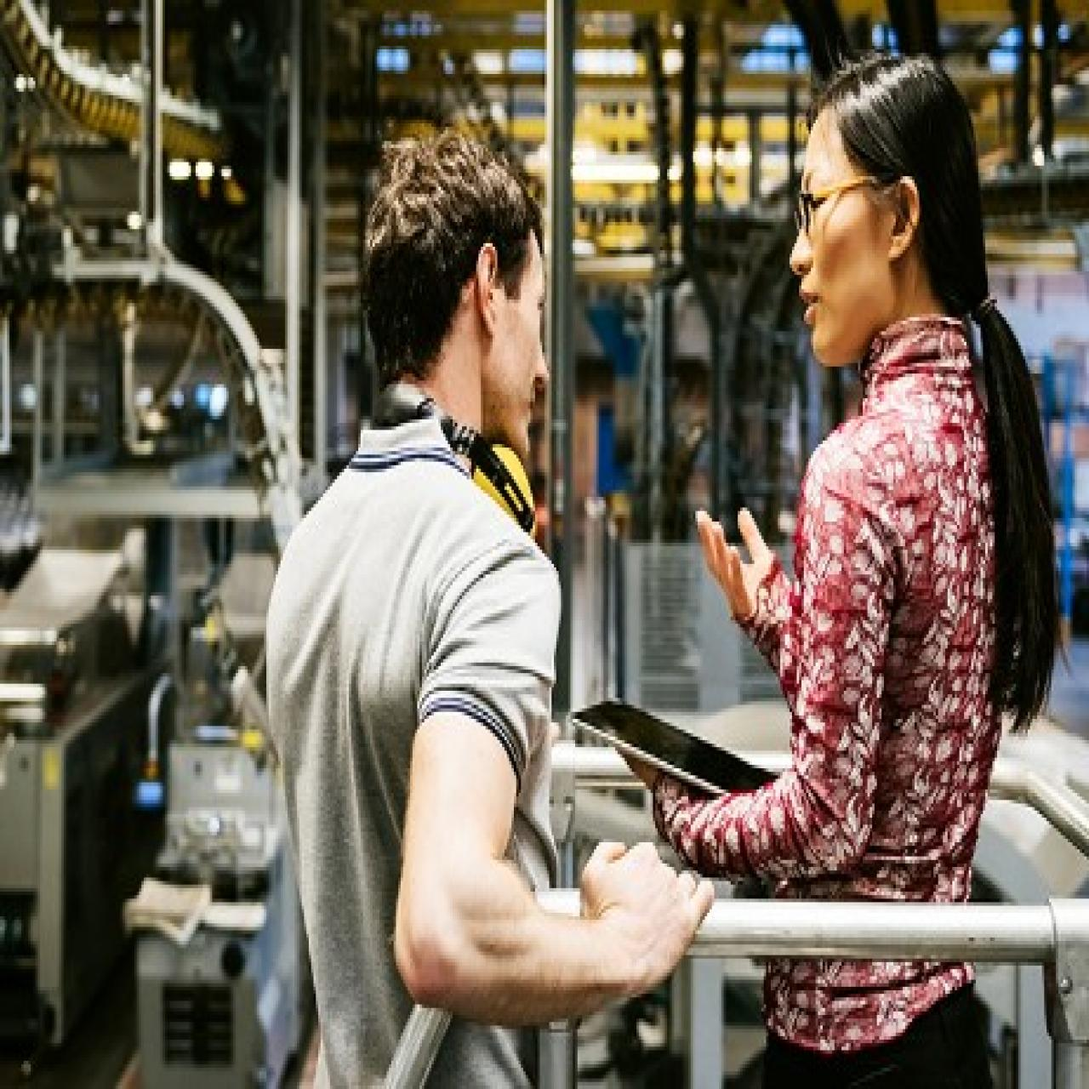NO_Safety_Vest: (262, 472, 544, 1072), (787, 349, 1004, 1006)
Person: (245, 84, 693, 1089), (678, 22, 1062, 1089)
